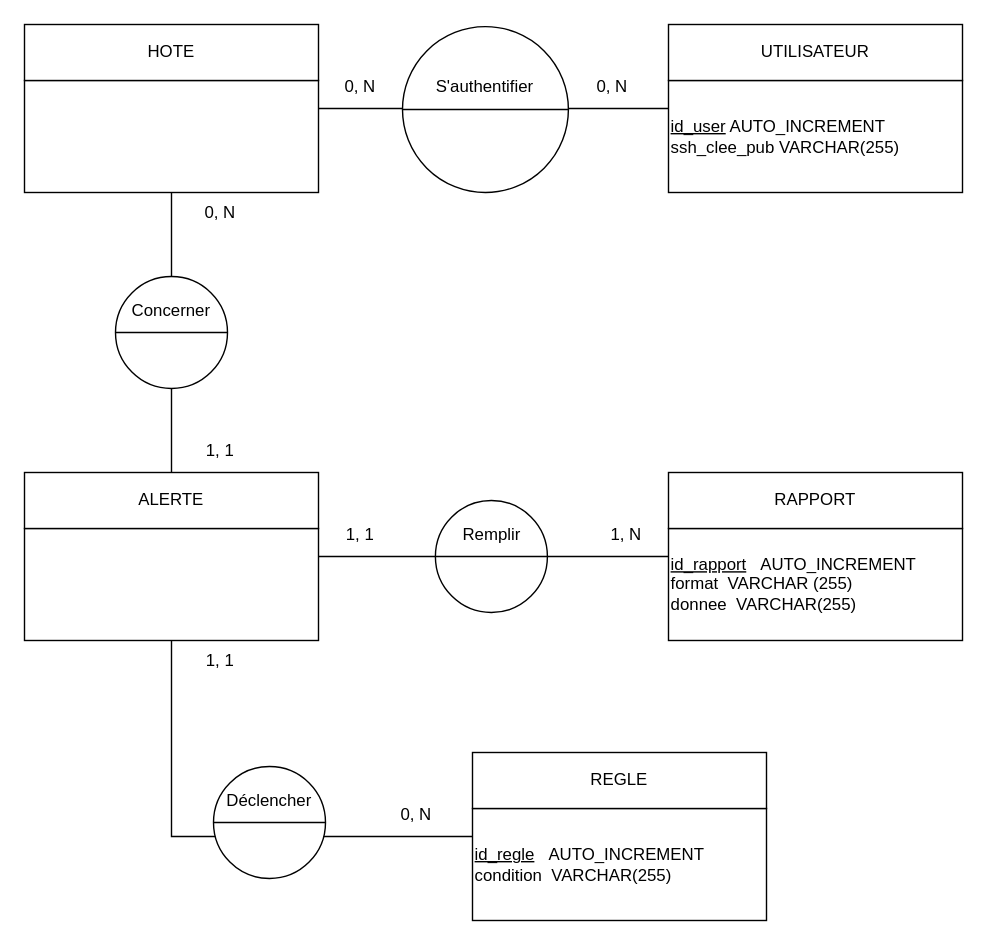
Image size: 987x945. Some labels were removed from this diagram. The box of each missing label's shape, as (x1, y1, x2, y2) in pixels:
adresse_MAC VARCHAR(12) adresse_IP VARCHAR(12) os VARCHAR(80): (23, 79, 318, 192)
autorisation BOOL: (401, 25, 568, 192)
date DATE: (434, 499, 547, 612)
id_alerte AUTO_INCREMENT: (23, 527, 318, 640)
